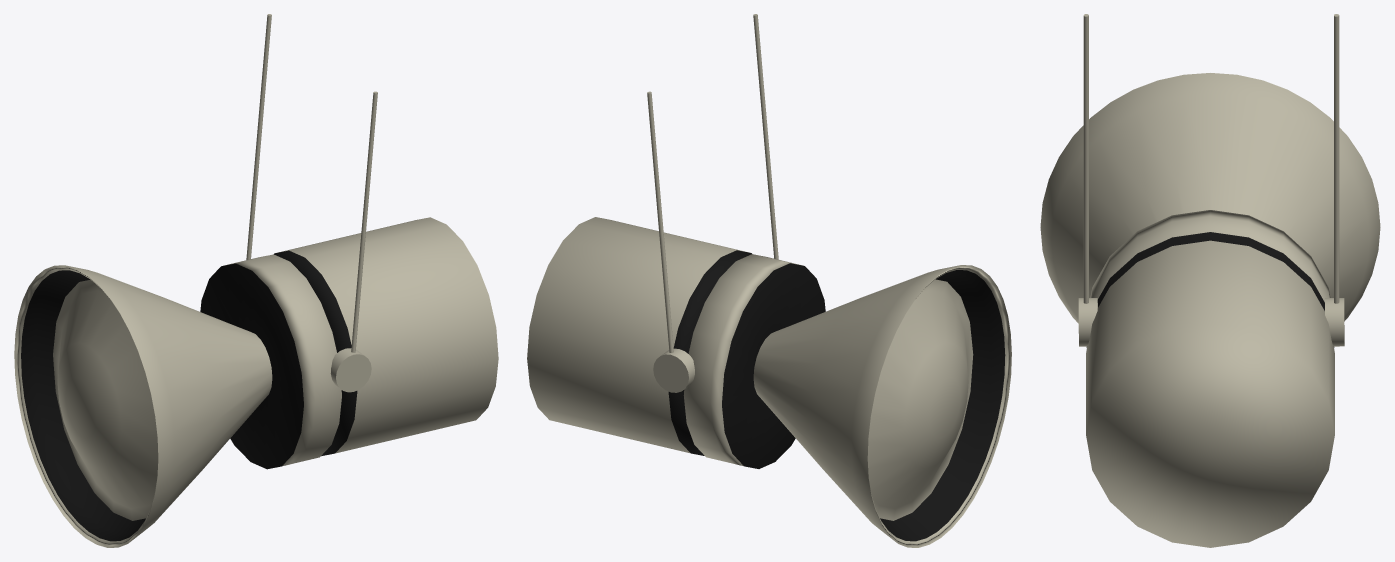
The model's file is BigLight2.fbx.
The picture shows the model from 3 angles, left to right: view 1: azimuth 30°, elevation 25°; view 2: azimuth 150°, elevation 25°; view 3: azimuth 270°, elevation 25°; orthographic projection. The views are drawn at different scales.
Parts seen in each view (by area): view 1: pCylinder1, pCylinder2, pCylinder4, pCylinder5; view 2: pCylinder1, pCylinder3, pCylinder5, pCylinder4; view 3: pCylinder1, pCylinder5, pCylinder4, pCylinder3, pCylinder2.
Boxes of the visible parts, box(x1,y1,x2,y2) form: pCylinder1: box(14, 217, 498, 547); pCylinder2: box(330, 348, 371, 392); pCylinder4: box(351, 91, 377, 352); pCylinder5: box(246, 14, 271, 259); pCylinder1: box(527, 217, 1011, 547); pCylinder3: box(653, 348, 694, 392); pCylinder5: box(647, 91, 673, 352); pCylinder4: box(753, 14, 778, 259); pCylinder1: box(1040, 73, 1380, 547); pCylinder5: box(1334, 14, 1339, 303); pCylinder4: box(1083, 14, 1088, 303); pCylinder3: box(1325, 298, 1344, 346); pCylinder2: box(1078, 298, 1097, 346).
Bounding box in the file's own units: 1.72 × 1.91 × 1.17.
